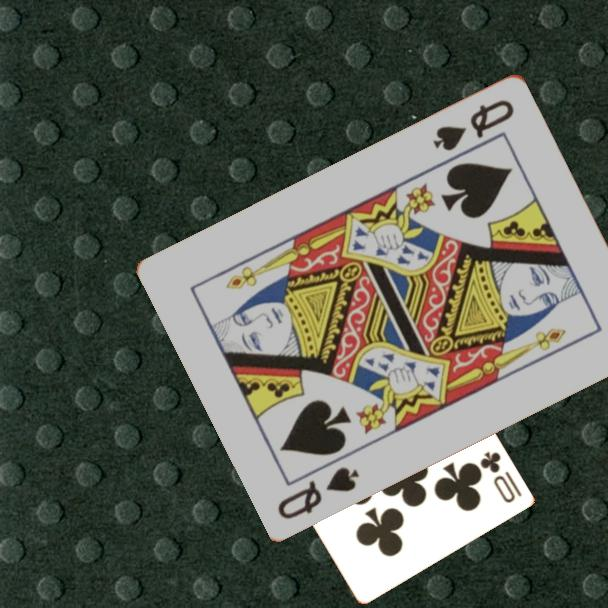c10: (476, 448, 524, 506)
s12: (274, 462, 363, 522), (429, 95, 518, 154)
